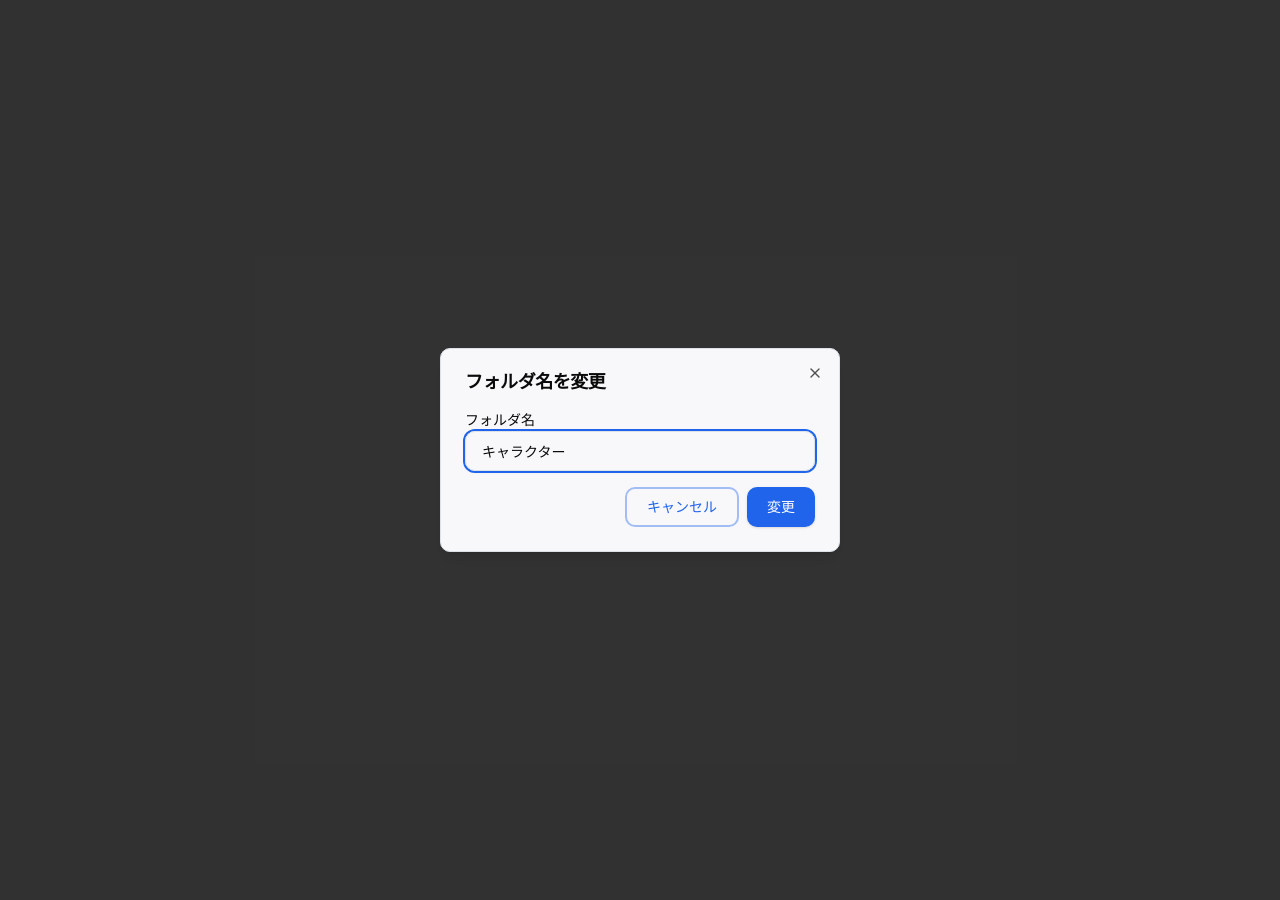
Test case: RenameFolderModal › バリデーション › 同じ階層に同名フォルダがある場合はエラー
Replace the text in the field labelled "フォルダ名" with "マップ": {"x": 640, "y": 451} x1=465 y1=431 x2=815 y2=471
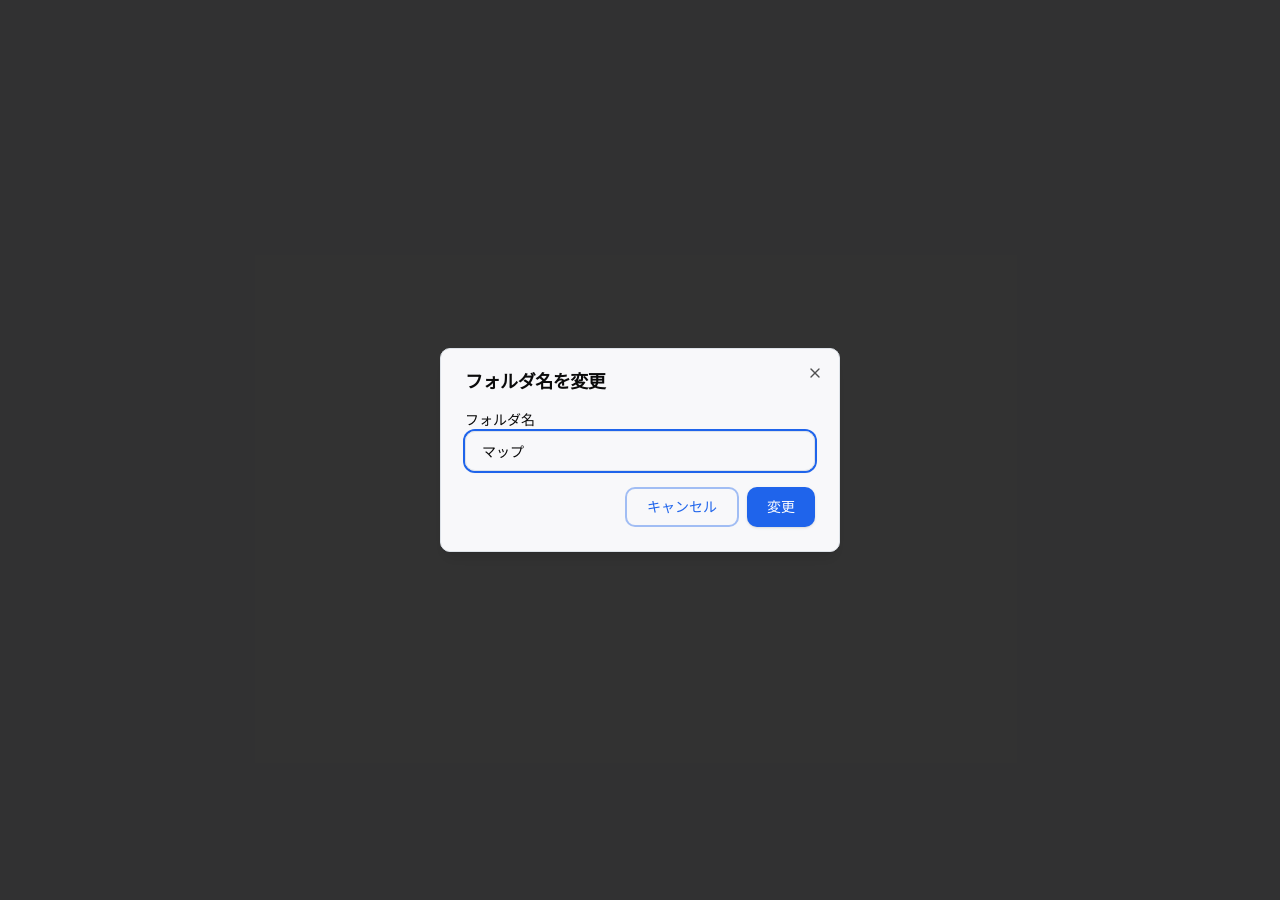
Click the button "変更": {"x": 781, "y": 507} x1=747 y1=487 x2=815 y2=527
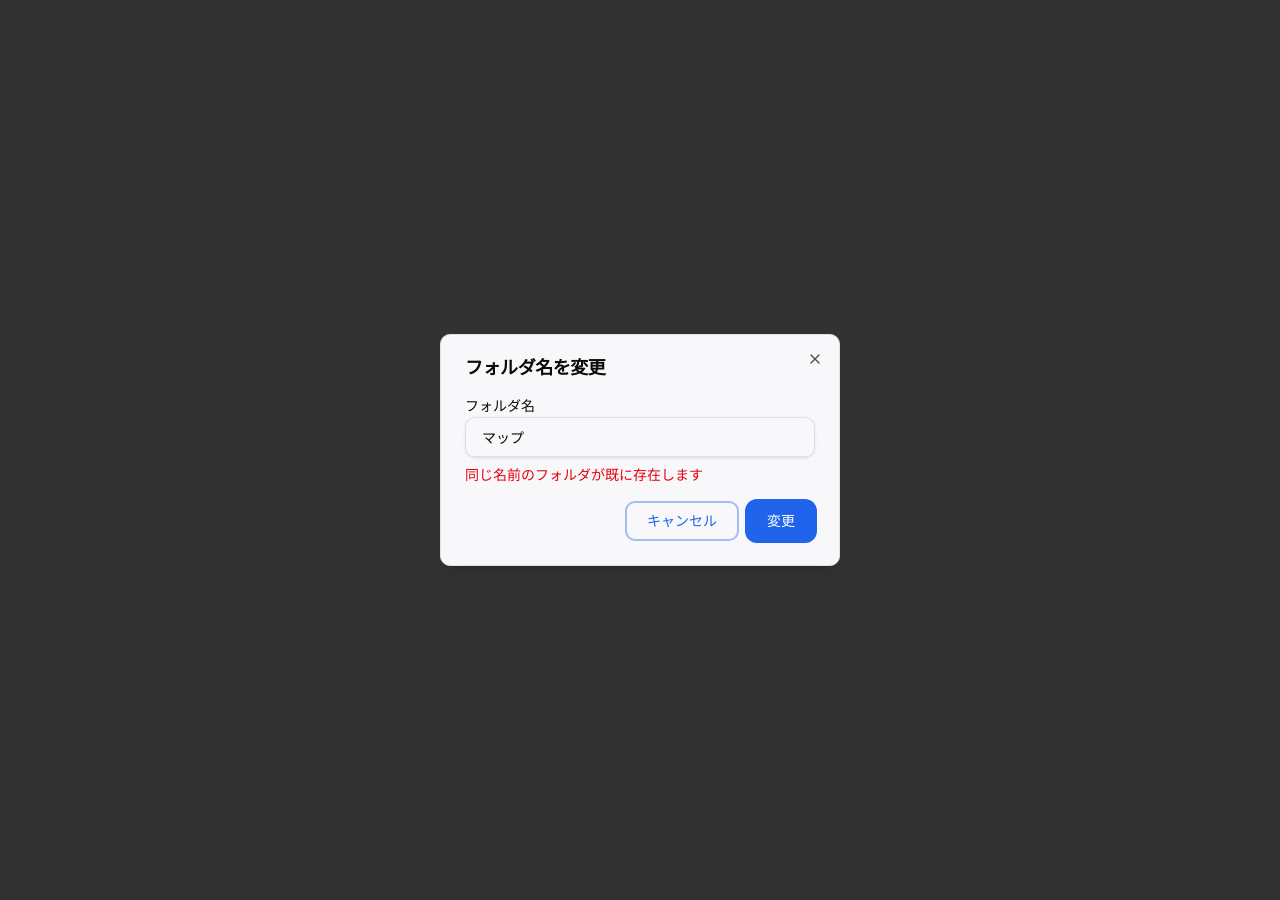
Expected: the text "同じ名前のフォルダが既に存在します" is shown, x1=465 y1=466 x2=703 y2=483
